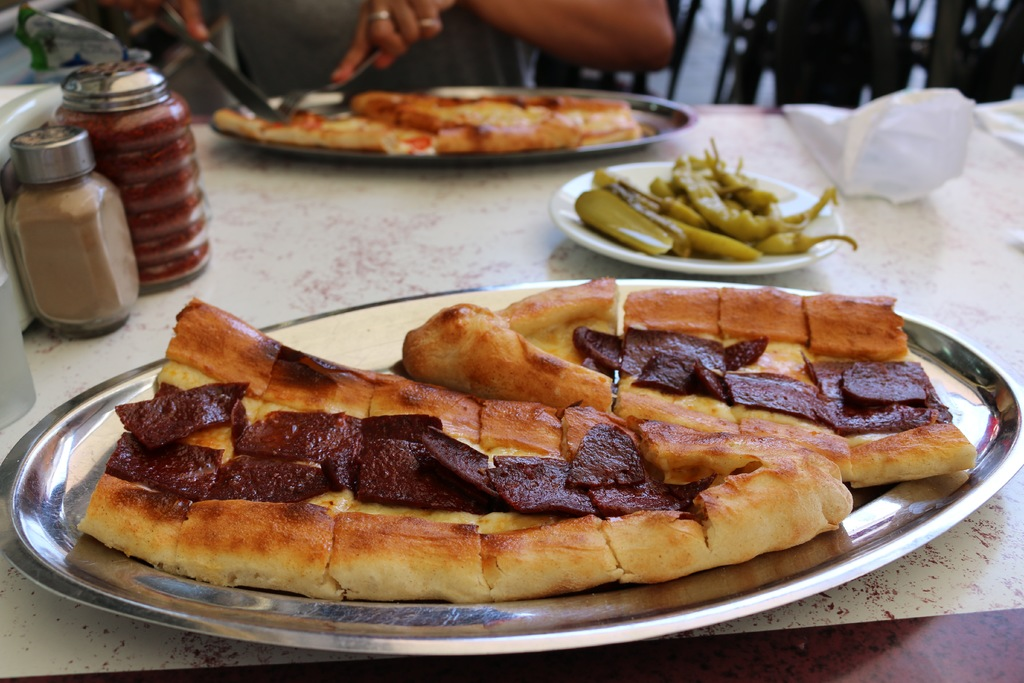Pizza: (117, 285, 935, 595), (200, 53, 636, 164)
